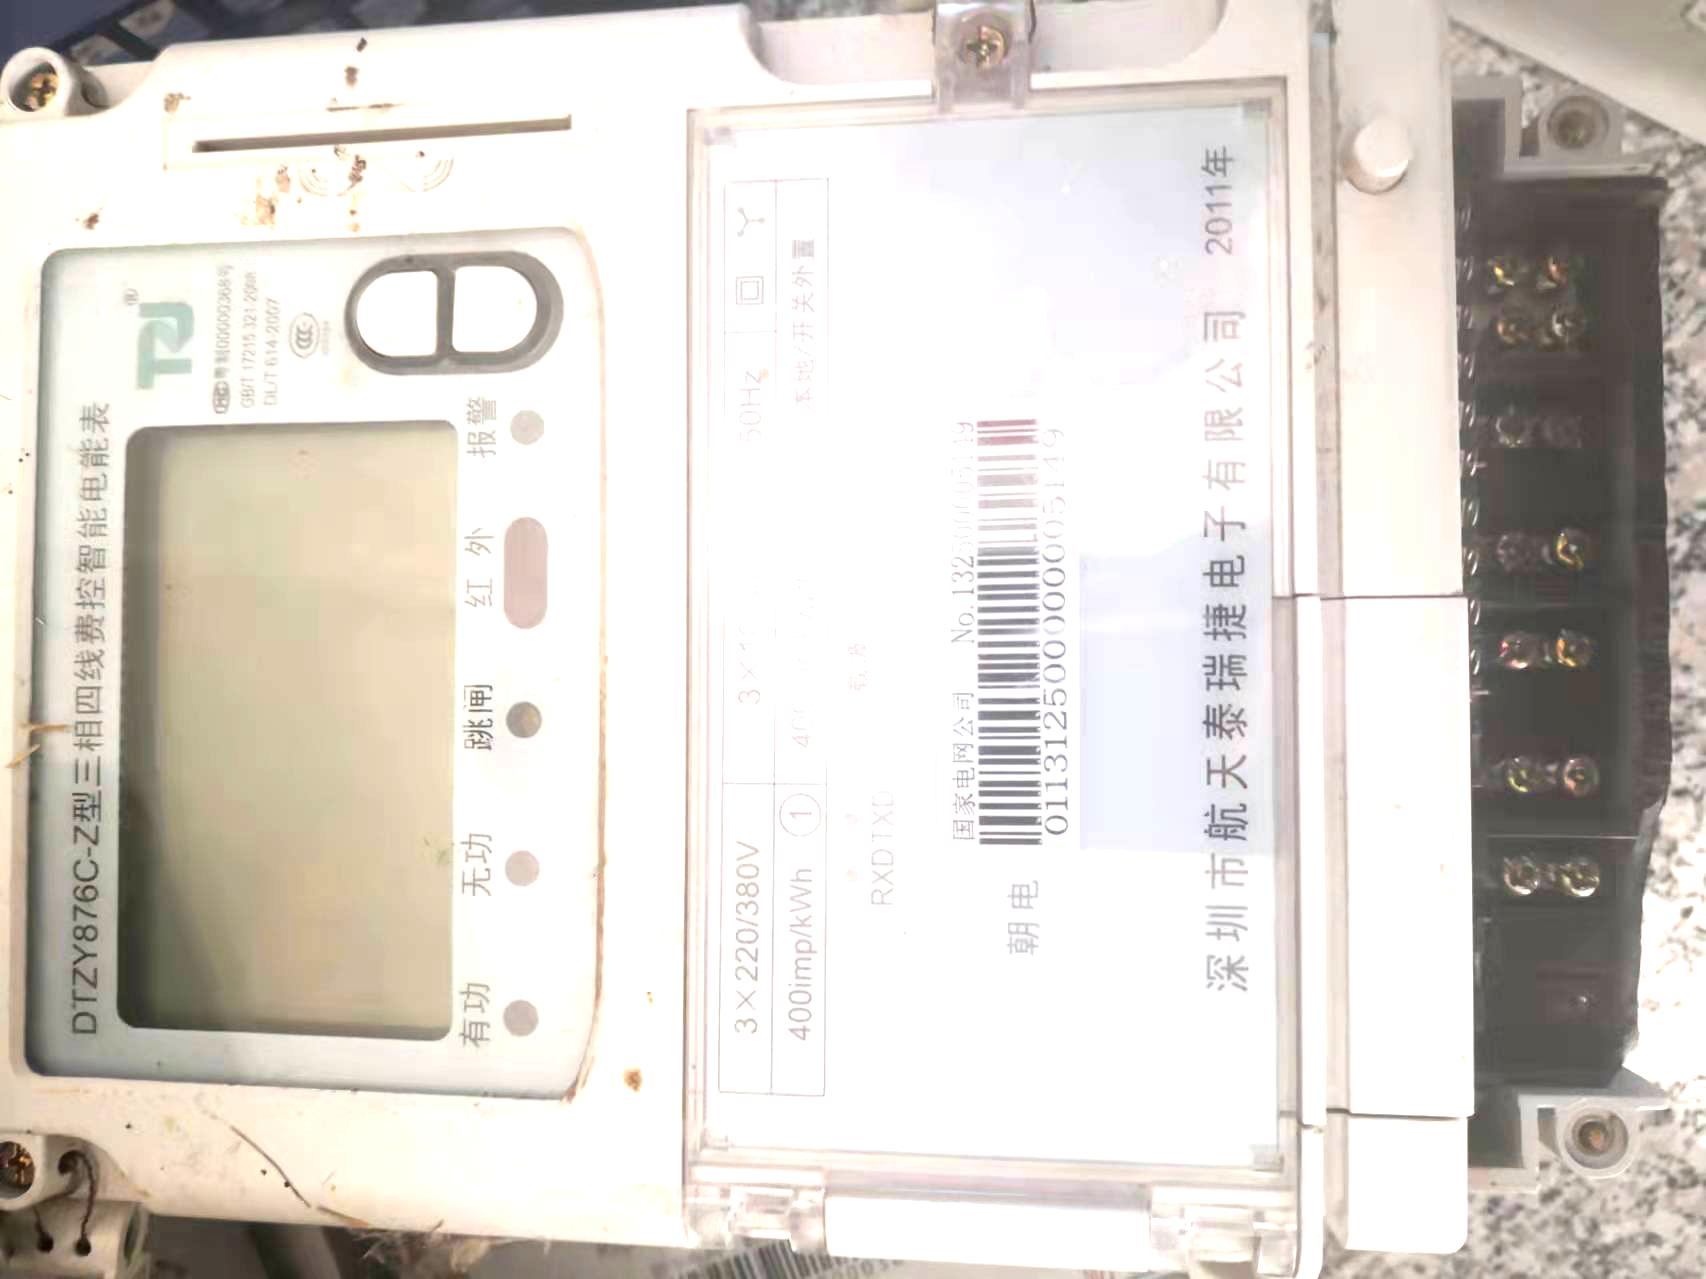digital: (1, 5, 1322, 1274)
